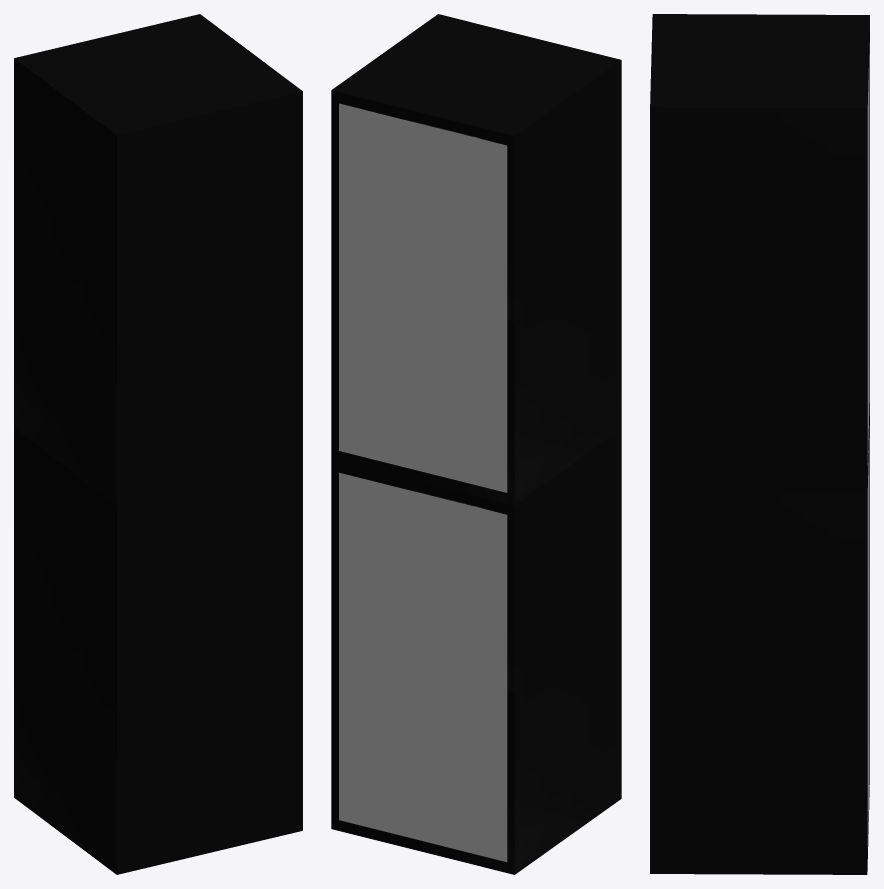
File: Speakers01.fbx
The picture shows the model from 3 angles, left to right: view 1: azimuth 30°, elevation 25°; view 2: azimuth 150°, elevation 25°; view 3: azimuth 270°, elevation 25°; orthographic projection. The views are drawn at different scales.
Visible parts, largest first — view 1: Empty_Mesh; view 2: Empty_Mesh; view 3: Empty_Mesh.
Part boxes in pixels (left/top/right/bottom): Empty_Mesh: left=14, top=14, right=302, bottom=874; Empty_Mesh: left=331, top=14, right=621, bottom=874; Empty_Mesh: left=650, top=14, right=869, bottom=874.
Bounding box in the file's own units: 109 × 412 × 107.
